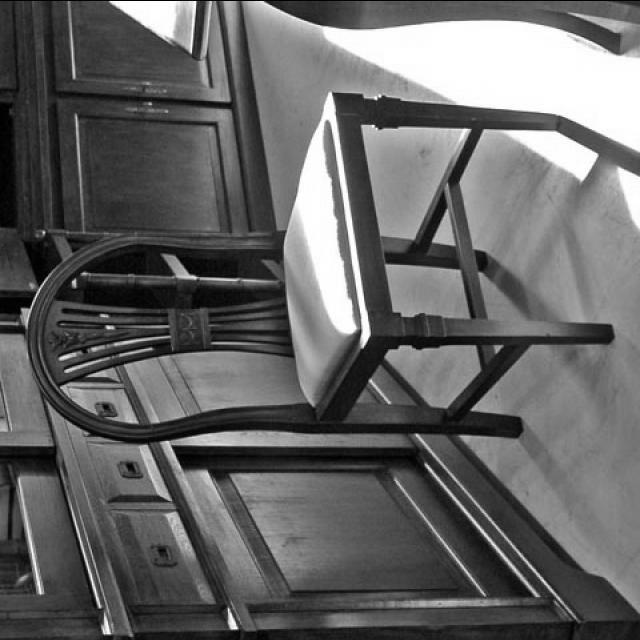chair: (25, 90, 613, 486)
